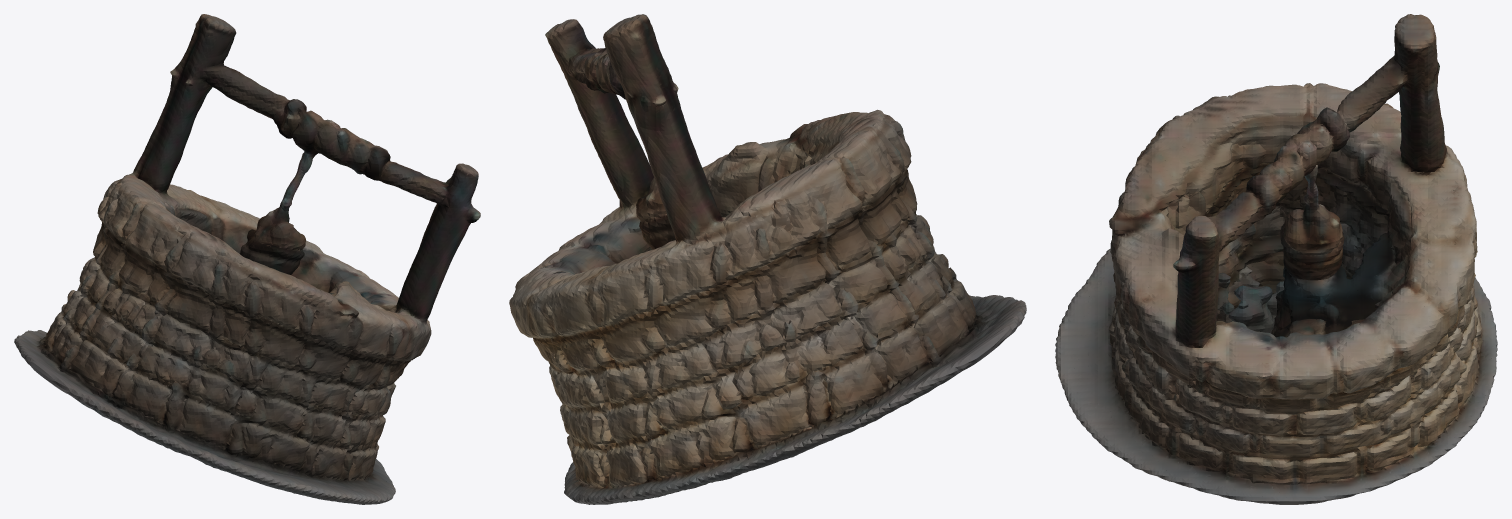
Rendered from BLD_StoneWell.glb.
3 views of the same model, side by side, from view 1: azimuth 30°, elevation 25°; view 2: azimuth 150°, elevation 25°; view 3: azimuth 270°, elevation 25° (orthographic). The views are drawn at different scales.
Parts seen in each view (by area): view 1: geometry_0; view 2: geometry_0; view 3: geometry_0.
Part boxes in pixels (x1,y1,x2,y2): geometry_0: [14, 14, 480, 504]; geometry_0: [509, 14, 1026, 504]; geometry_0: [1055, 14, 1497, 504].
Size of the model in its own units: 0.9922 by 0.993 by 0.8976.
Materials: 1 (1 with a texture image).
